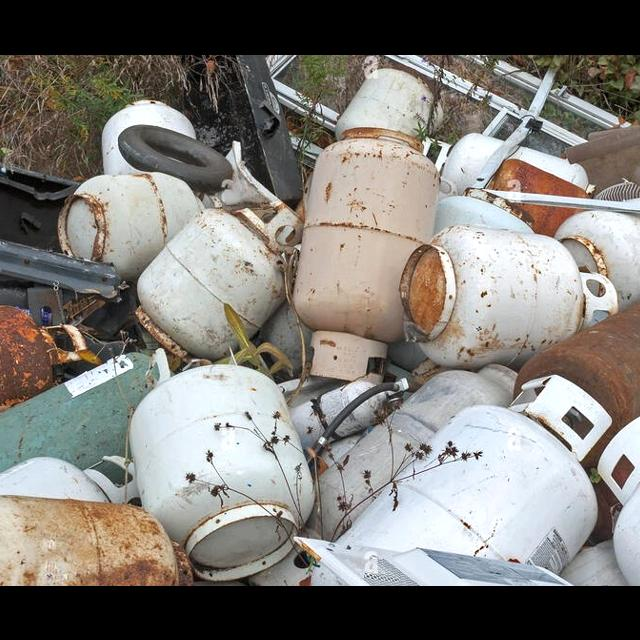Cylinders: (118, 359, 317, 581), (282, 132, 439, 391)
